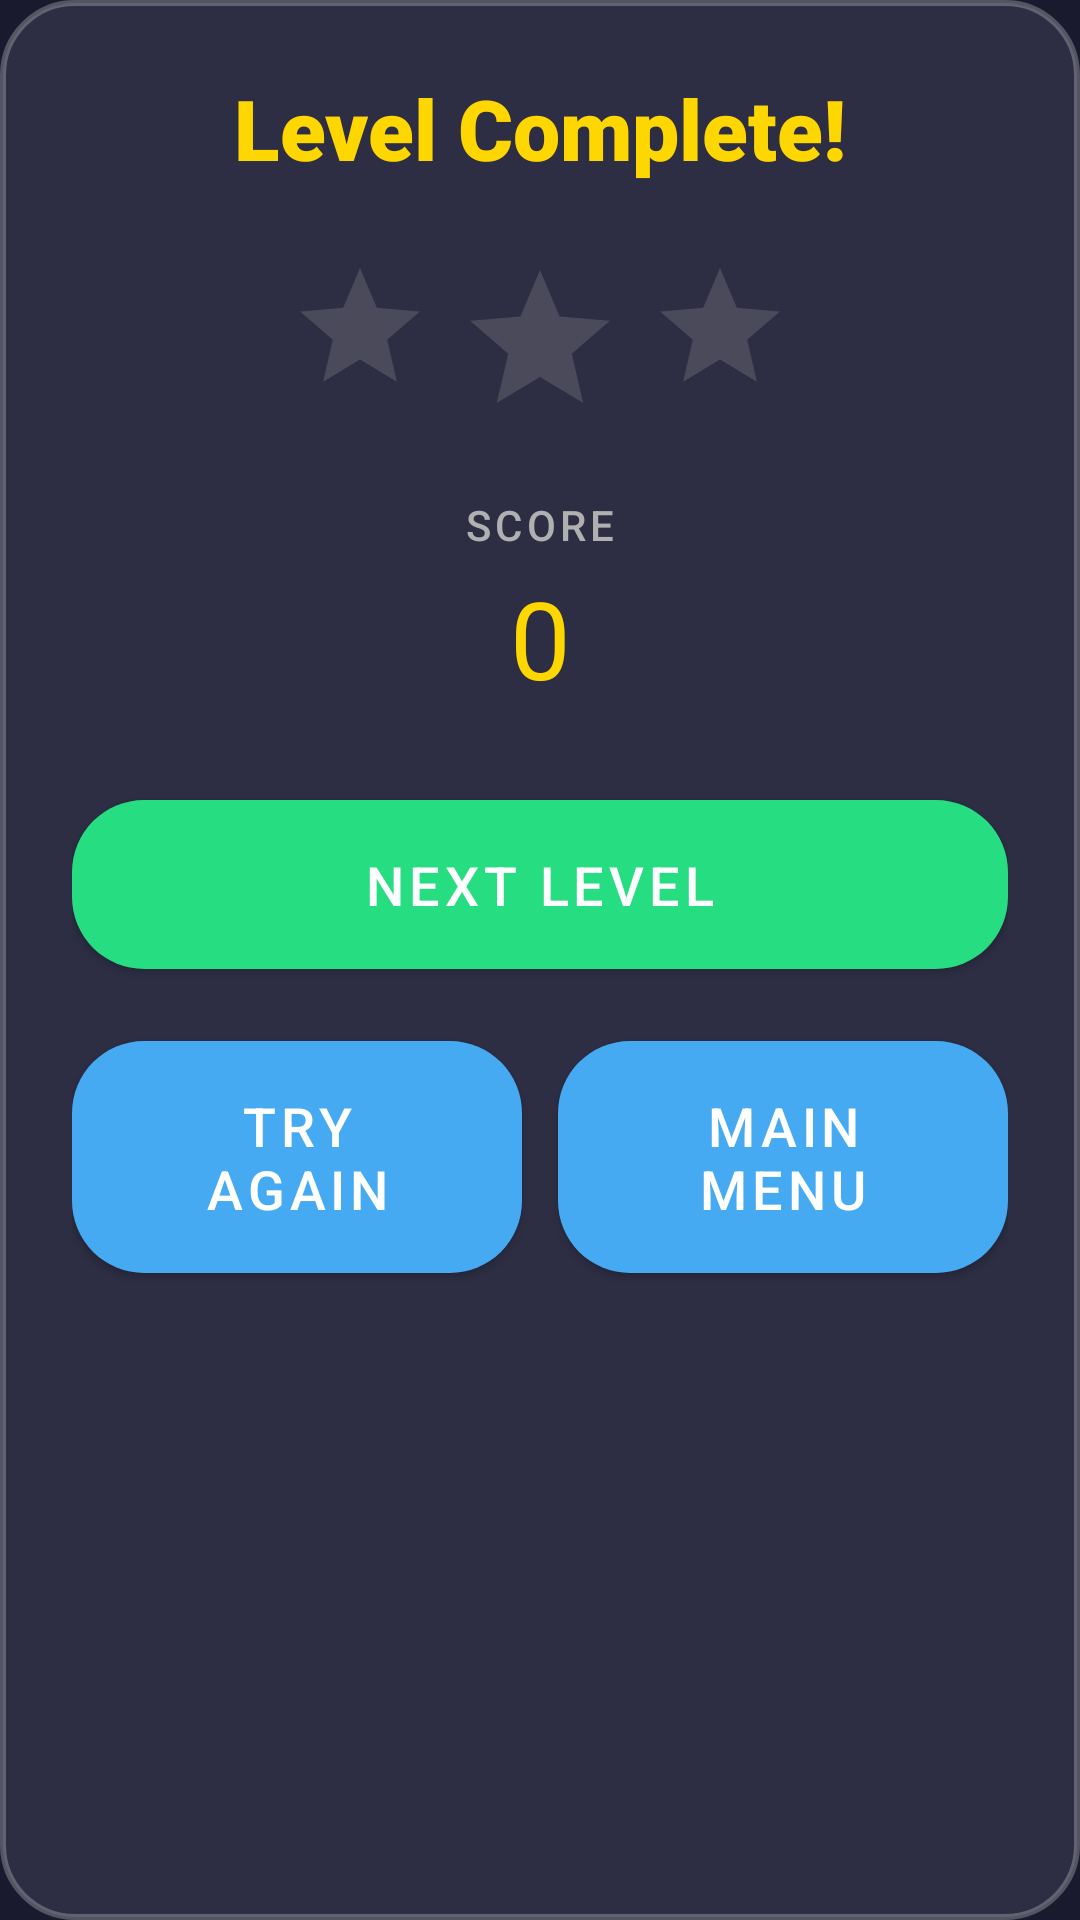

Named icons in this screenshot (1080×1920) and their centers, [x,y]:
star: [360,325], [720,325], [540,337]
